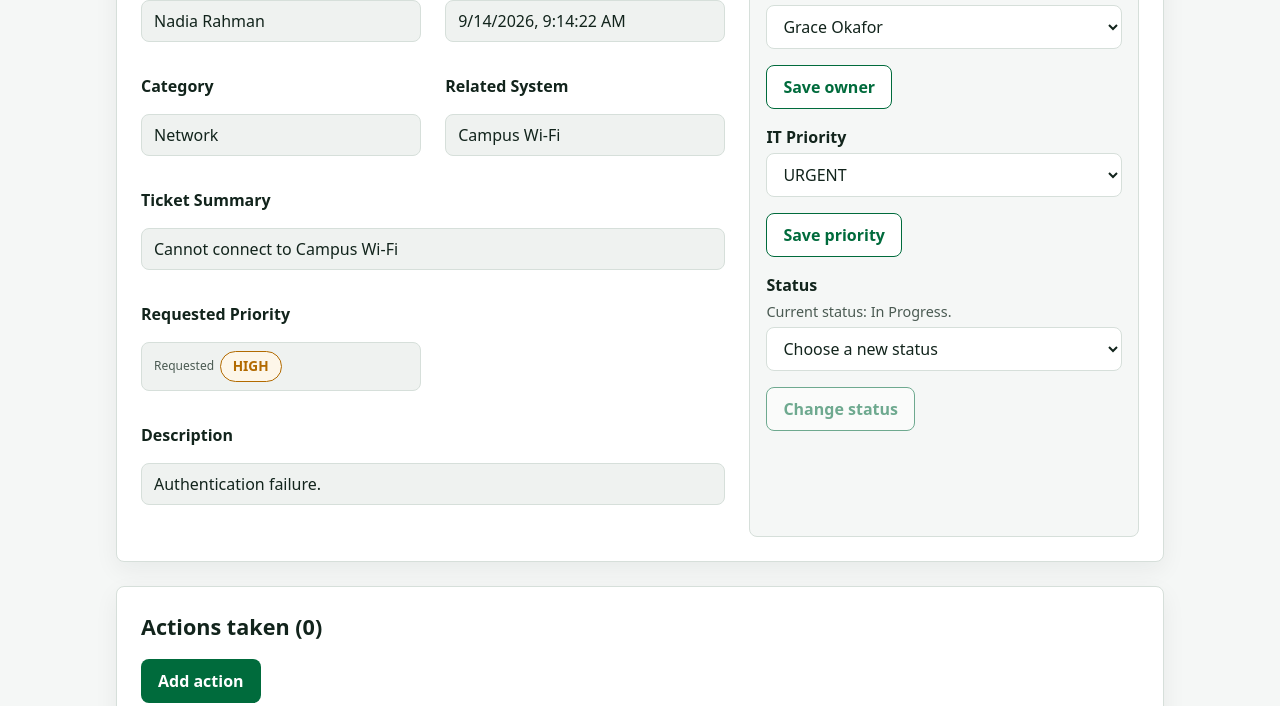
Test: UI-03 a successful change refreshes the screen without a reload › updates the status, and re-reads the Actions and the history
(page scrolled)
Select "Waiting for Requester" in the dropdown labelled "Status" at (944, 349), box [766, 327, 1122, 371]
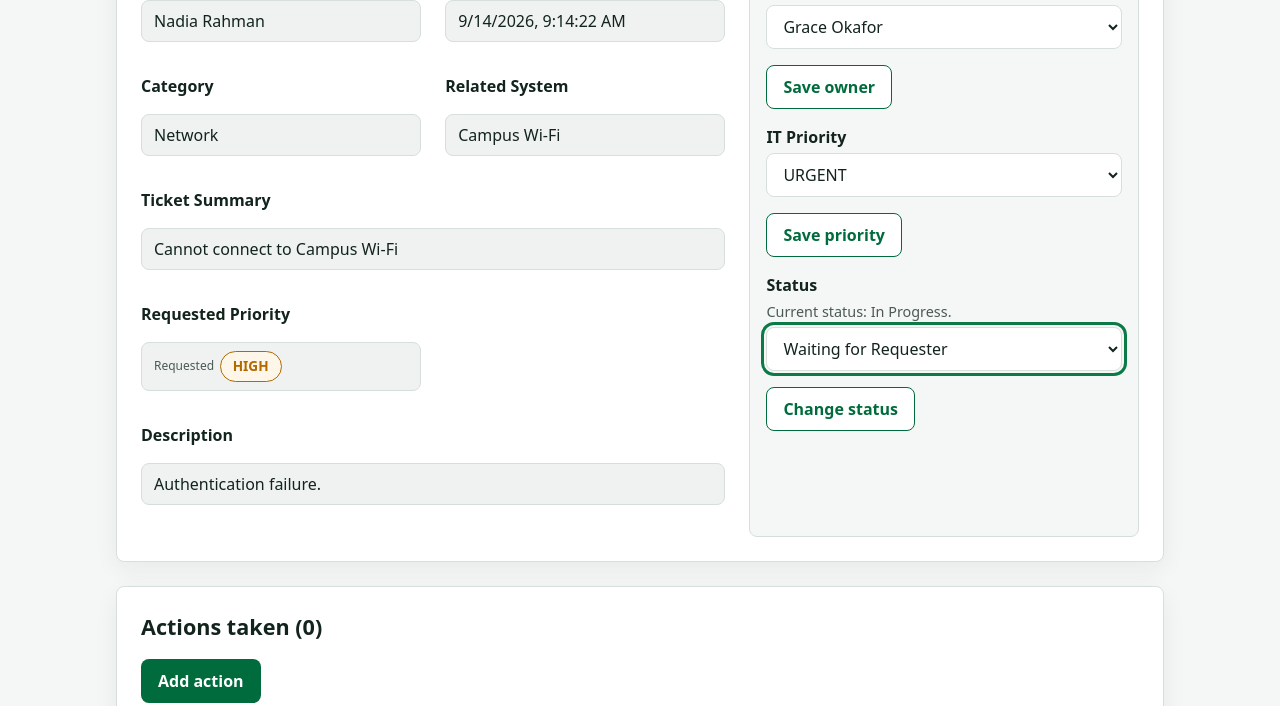
Click the button "Change status".
click(841, 409)  # box [766, 387, 915, 431]
(page scrolled)
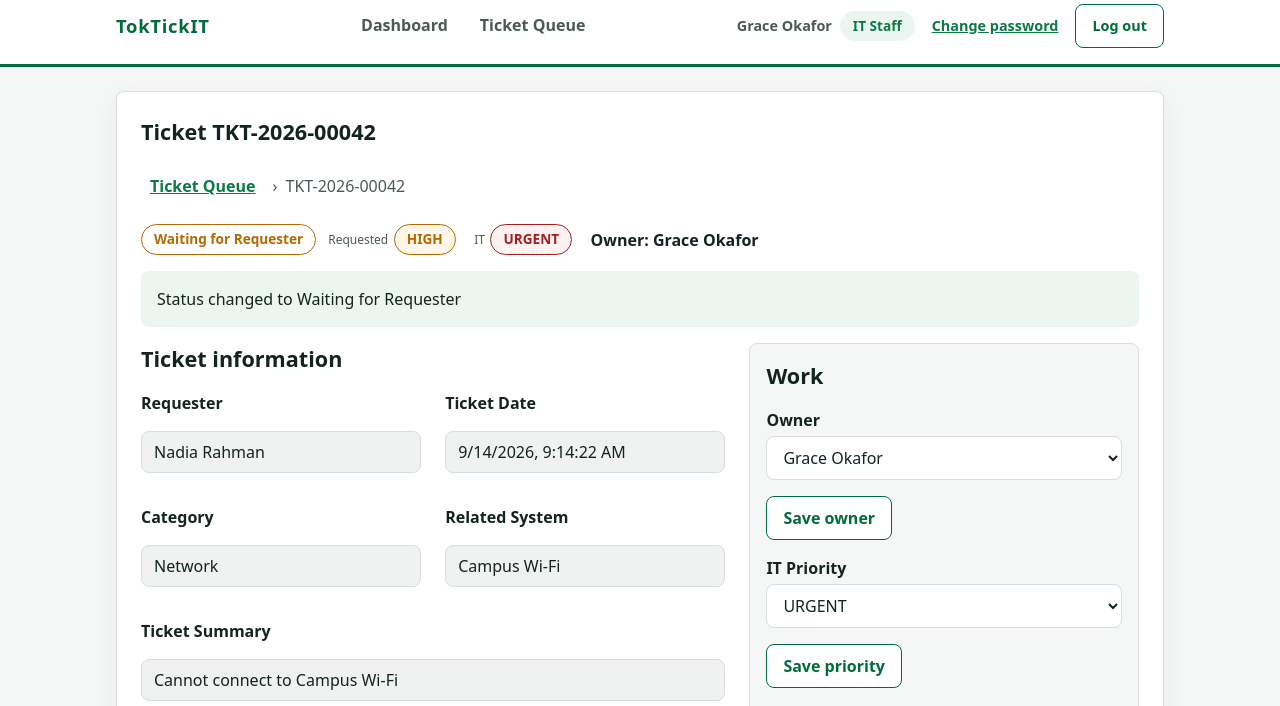
Expected: the text "Status changed to Waiting for Requester" is shown, [141, 271, 1139, 327]
